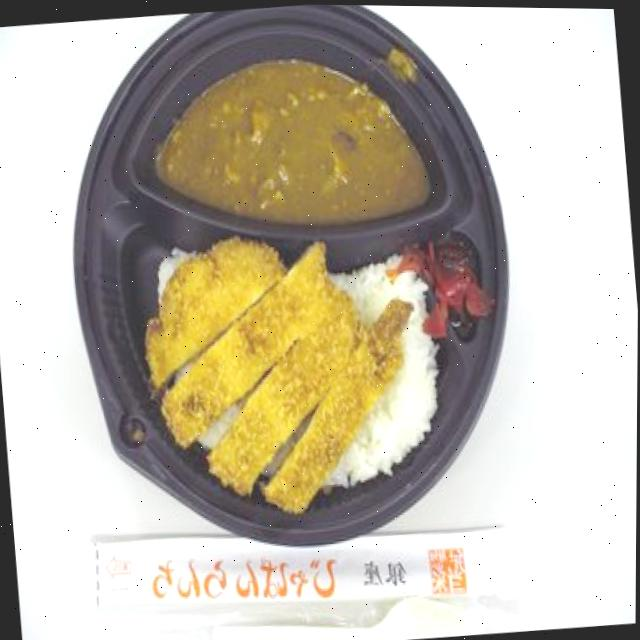猪肉菜式: (39, 0, 539, 581)
